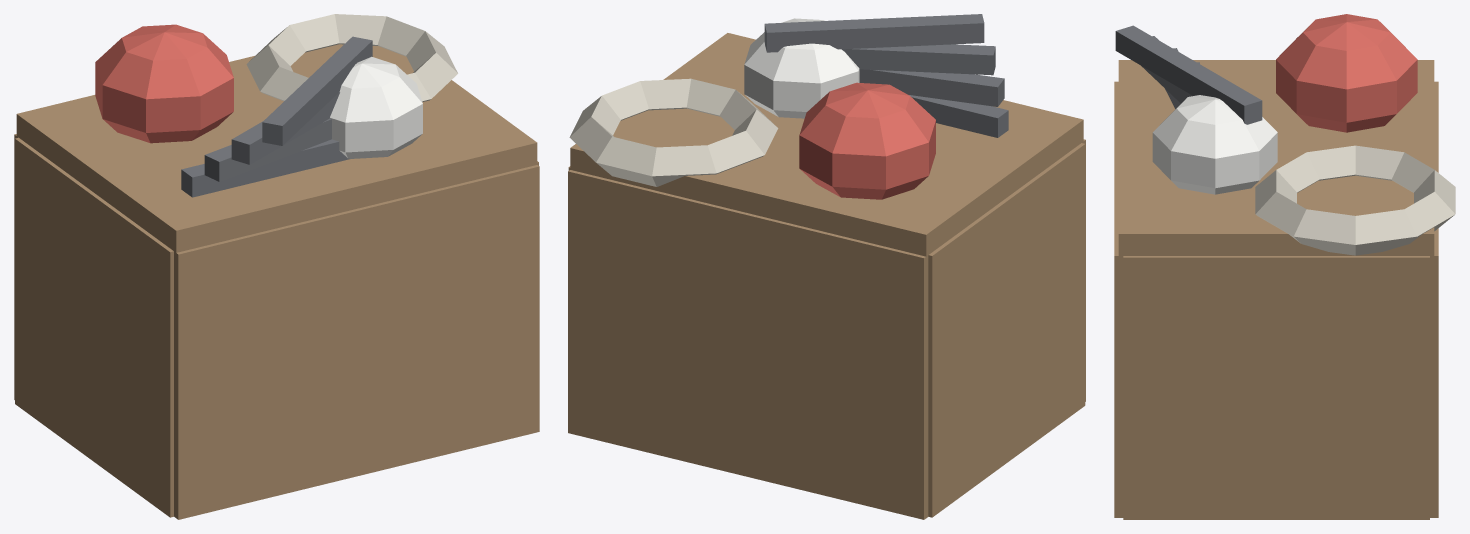
Rendered from lighthouse-and-rocky-coast-tackle-crate-20c1eb5a__36629.glb.
3 renders of one model, left to right at view 1: azimuth 30°, elevation 25°; view 2: azimuth 150°, elevation 25°; view 3: azimuth 270°, elevation 25°, orthographic.
Visible parts, largest first — view 1: tackle-crate; view 2: tackle-crate; view 3: tackle-crate.
Boxes of the visible parts, left/top/right/bottom form: tackle-crate: left=14, top=14, right=539, bottom=519; tackle-crate: left=568, top=14, right=1085, bottom=519; tackle-crate: left=1114, top=14, right=1455, bottom=519.
Bounding box in the file's own units: 1.02 × 0.936 × 0.7783.
